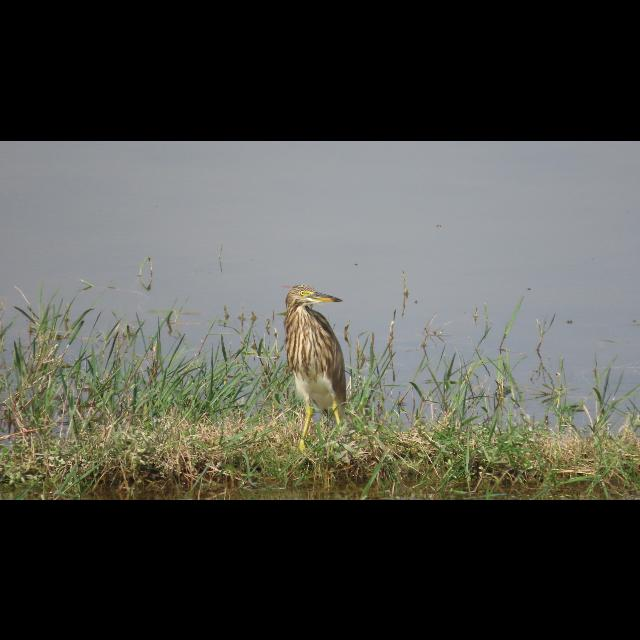heron: (284, 281, 348, 444)
